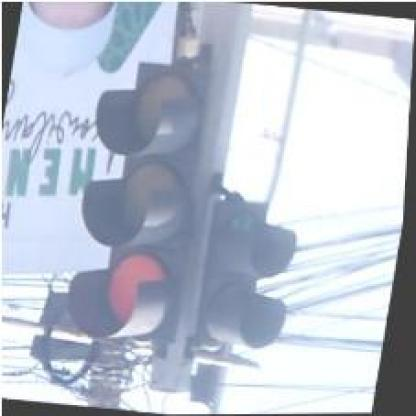red: (62, 58, 220, 345)
